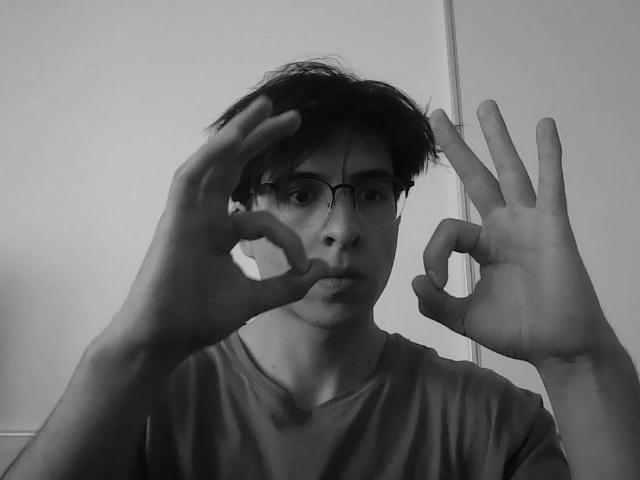OK: (120, 88, 326, 367), (414, 98, 609, 362)
